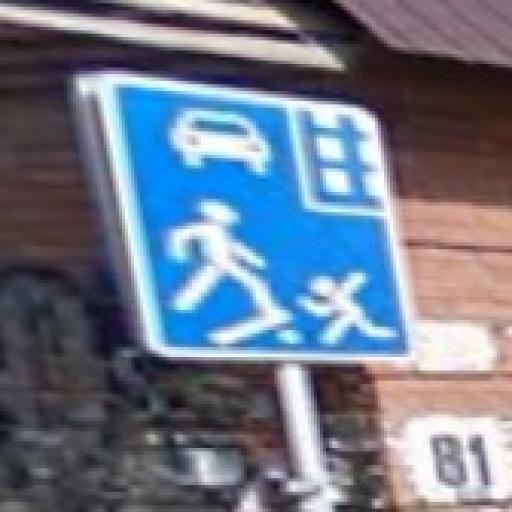traffic_sign: (96, 68, 419, 365)
